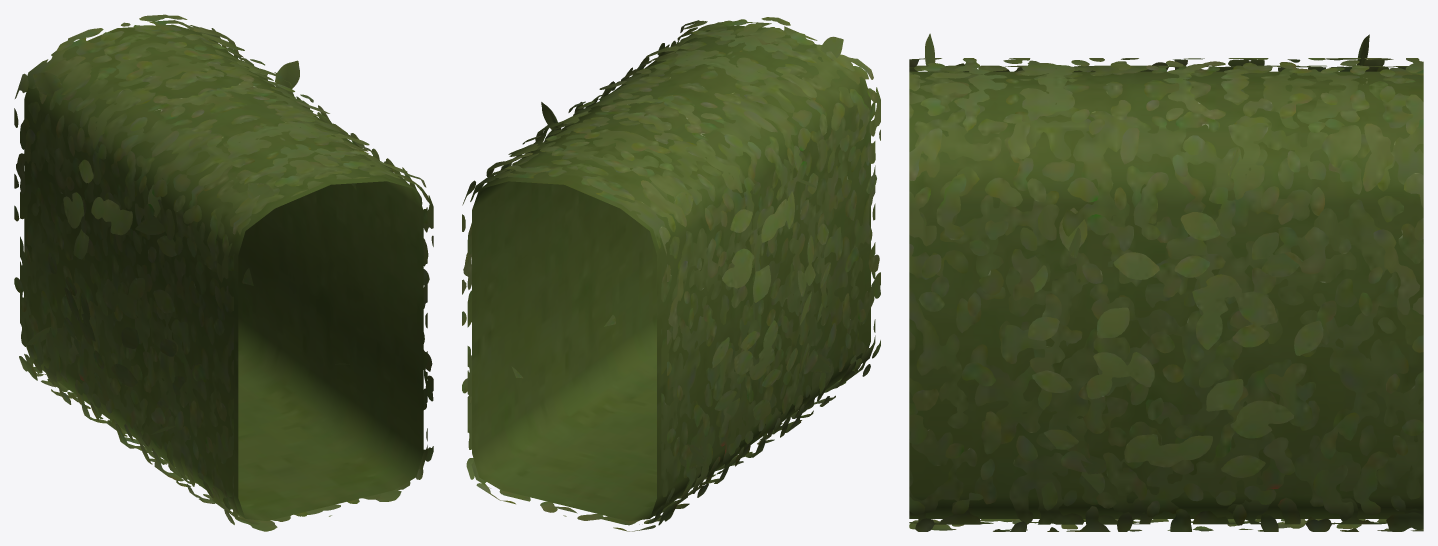
3 renders of one model, left to right at view 1: azimuth 30°, elevation 25°; view 2: azimuth 150°, elevation 25°; view 3: azimuth 270°, elevation 25°, orthographic. The views are drawn at different scales.
Parts seen in each view (by area): view 1: body0_model0_lod0_mesh0; view 2: body0_model0_lod0_mesh0; view 3: body0_model0_lod0_mesh0.
Boxes of the visible parts, x1,y1,x2,y2 form: body0_model0_lod0_mesh0: (14, 14, 433, 531); body0_model0_lod0_mesh0: (462, 17, 880, 531); body0_model0_lod0_mesh0: (909, 33, 1423, 531).
Size of the model in its own units: 45.19 by 59.7 by 64.
Materials: 1 (1 with a texture image).
